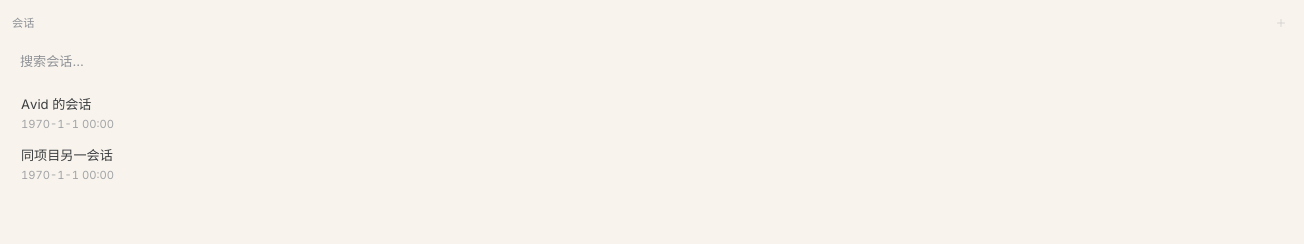
Scenario: 内容检索（阶段 57） › 还在查的时候说「正在查内容…」，别让人以为没结果
Type "会话" into the field labelled "搜索会话". click: (652, 61)
box: [12,46,1292,76]
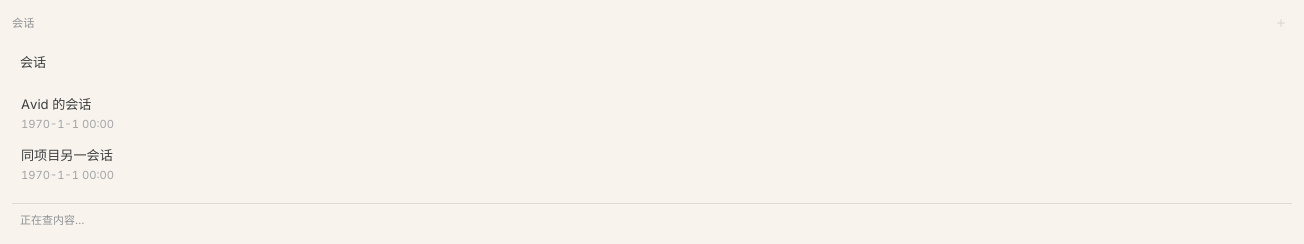
Expected: the text "正在查内容…" is shown, [20,213,84,227]
